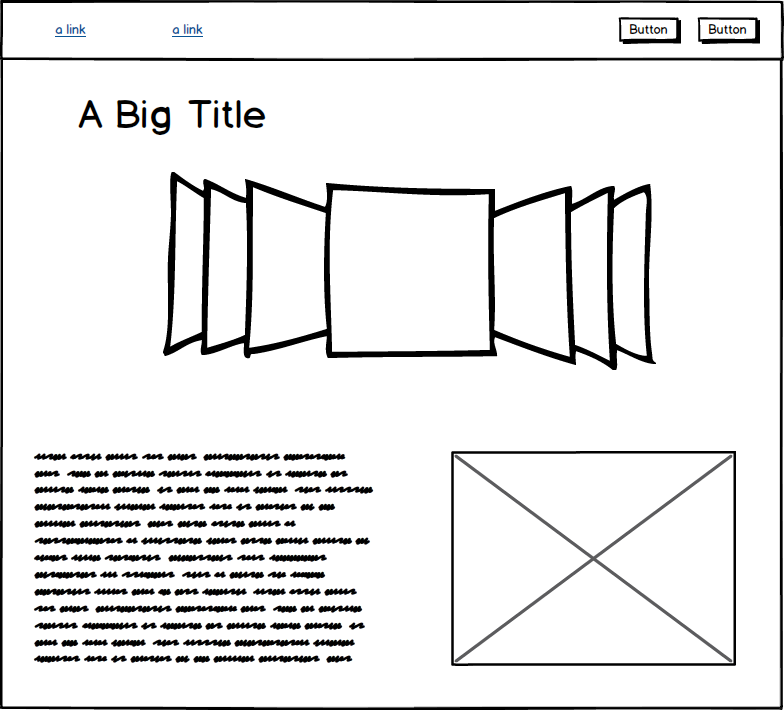button: (613, 13, 684, 46), (695, 13, 763, 46)
h1: (69, 95, 275, 138)
image: (446, 445, 740, 670)
navlink: (48, 19, 96, 42), (166, 19, 213, 42)
p: (26, 447, 378, 674)
slideshow: (156, 162, 663, 375)
